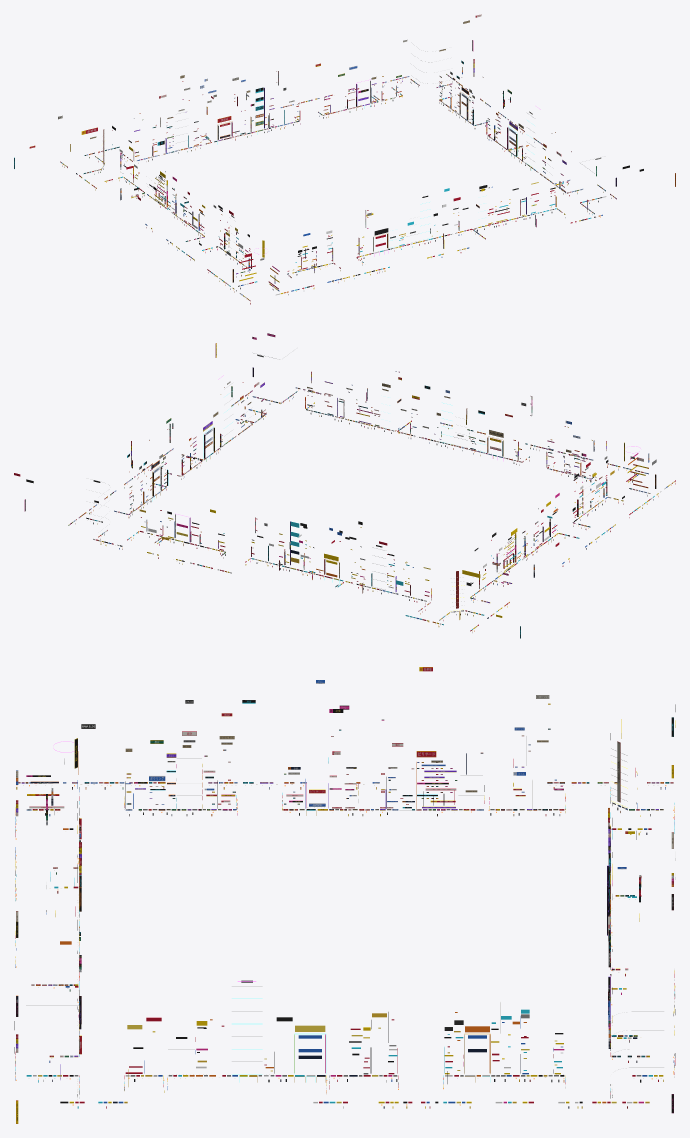
The model's file is HEX_City_07_SIGNAGE.fbx.
The picture shows the model from 3 angles, top to bottom: view 1: azimuth 30°, elevation 25°; view 2: azimuth 150°, elevation 25°; view 3: azimuth 270°, elevation 25°; orthographic projection. The views are drawn at different scales.
Bounding box in the file's own units: 1633 × 233 × 1149.
Materials: 13 (4 with a texture image).
